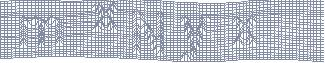N: (130, 8, 166, 58)
m: (17, 14, 65, 51)
x: (230, 14, 261, 50), (90, 1, 120, 34)
y: (177, 15, 210, 63)
